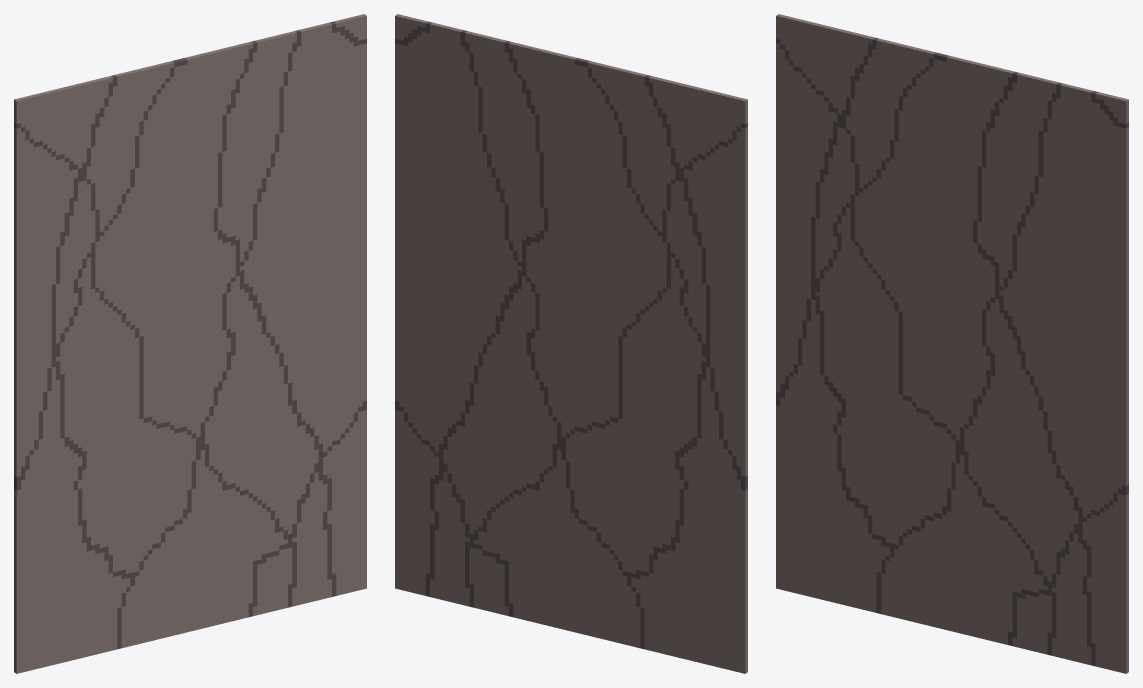
The model's file is techoMarronGrietas.obj.
The picture shows the model from 3 angles, left to right: view 1: azimuth 30°, elevation 25°; view 2: azimuth 150°, elevation 25°; view 3: azimuth 330°, elevation 25°; orthographic projection.
Bounding box in the file's own units: 8 × 12.5 × 0.1.
1 material, 1 textured.
